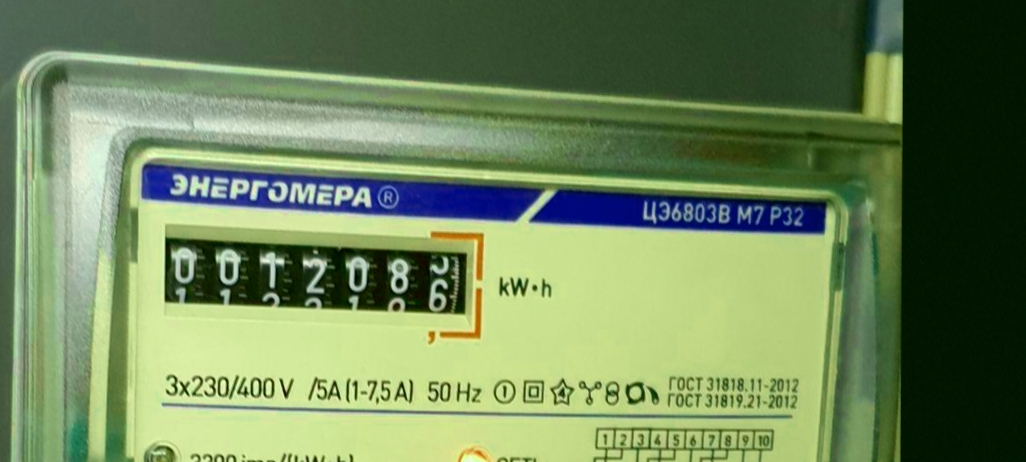0: (215, 244, 243, 286), (172, 242, 196, 284), (346, 253, 369, 292)
1: (260, 248, 282, 289)
2: (303, 255, 328, 294)
6: (425, 276, 449, 312)
8: (388, 254, 410, 294)
screen: (155, 210, 494, 351)
